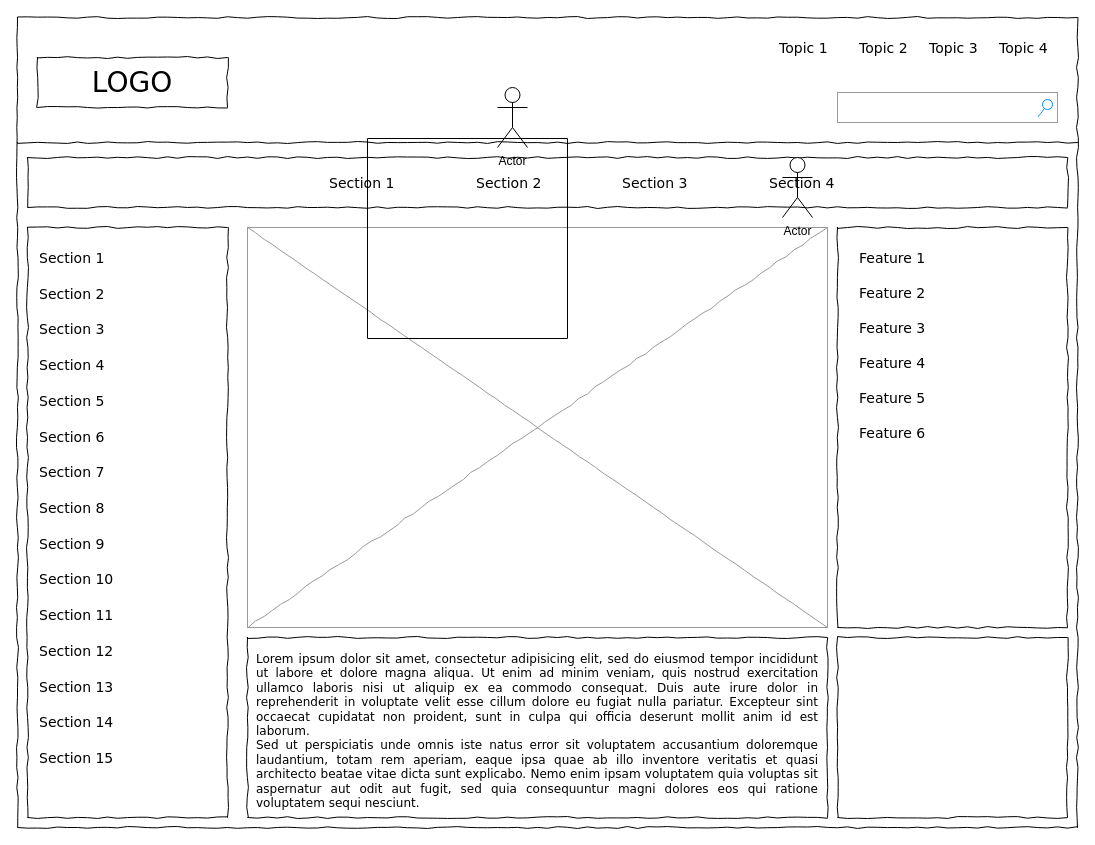
The diagram is 1095 pixels wide and 845 high, and some of its shapes have lost their labels. Here are the shapes that lost their labels. From the top down, the centre of each, then its label:
point 947,107: Search
point 952,727: External Links
